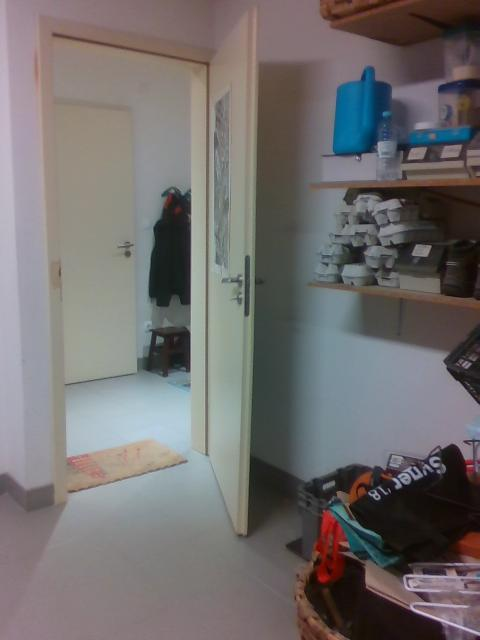open_door: (37, 12, 219, 504)
